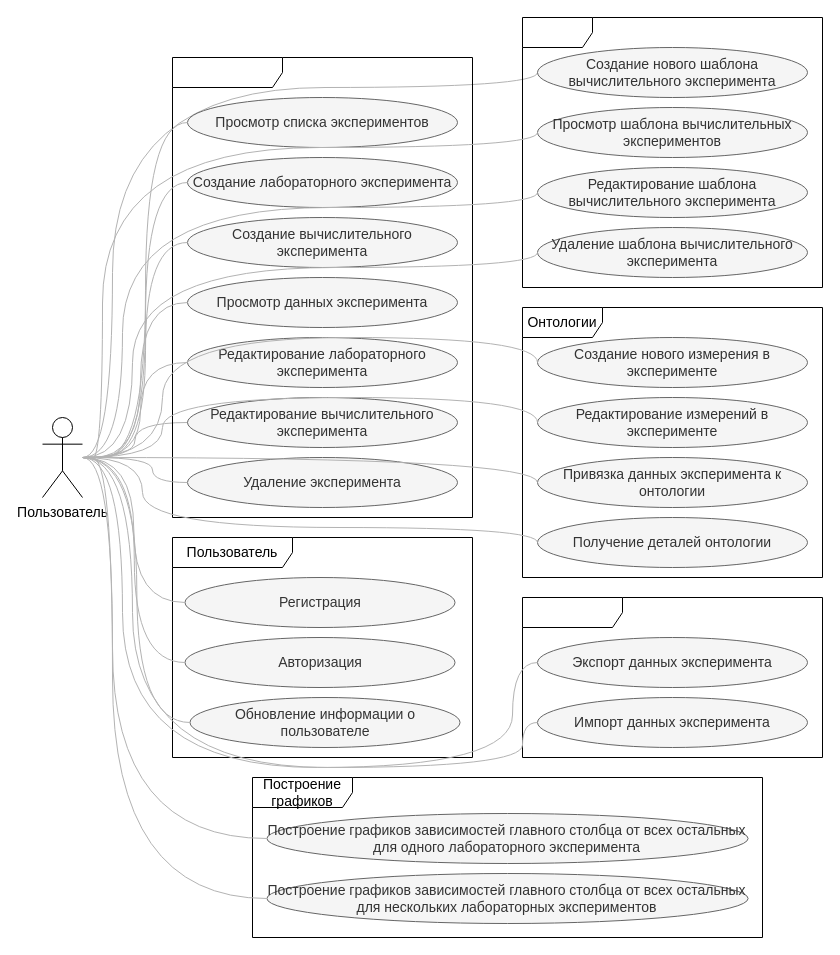
Image size: 840x955. Some labels were removed from this diagram. The shapes that lost their labels are listed below. From the top down, each one's box as (x1, y1, x2, y2) in pixels, then its label:
(522, 16, 822, 288): Шаблоны
(172, 56, 472, 518): Эксперименты
(522, 596, 822, 758): Ввод-вывод данных
